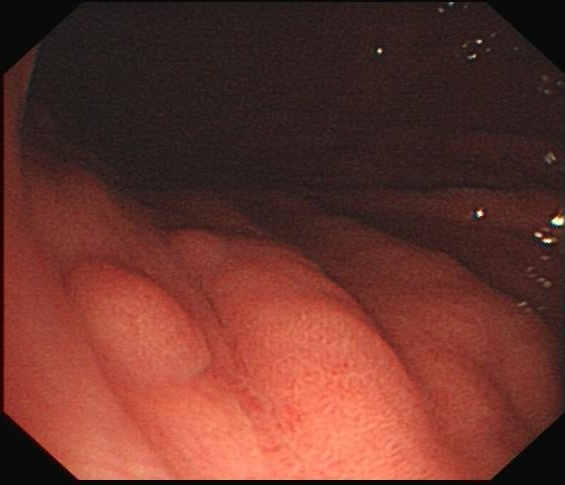Polyp: (63, 258, 216, 389)
